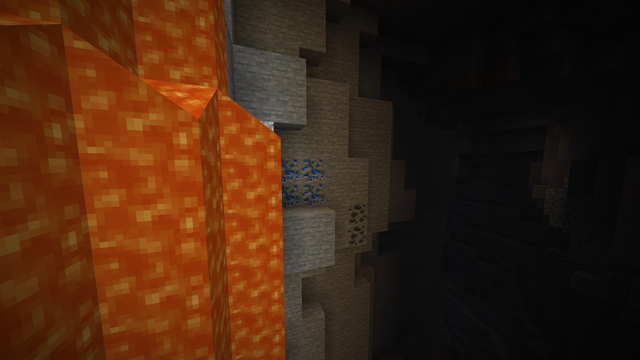coal: (346, 203, 368, 248)
lapis: (281, 159, 326, 206)
